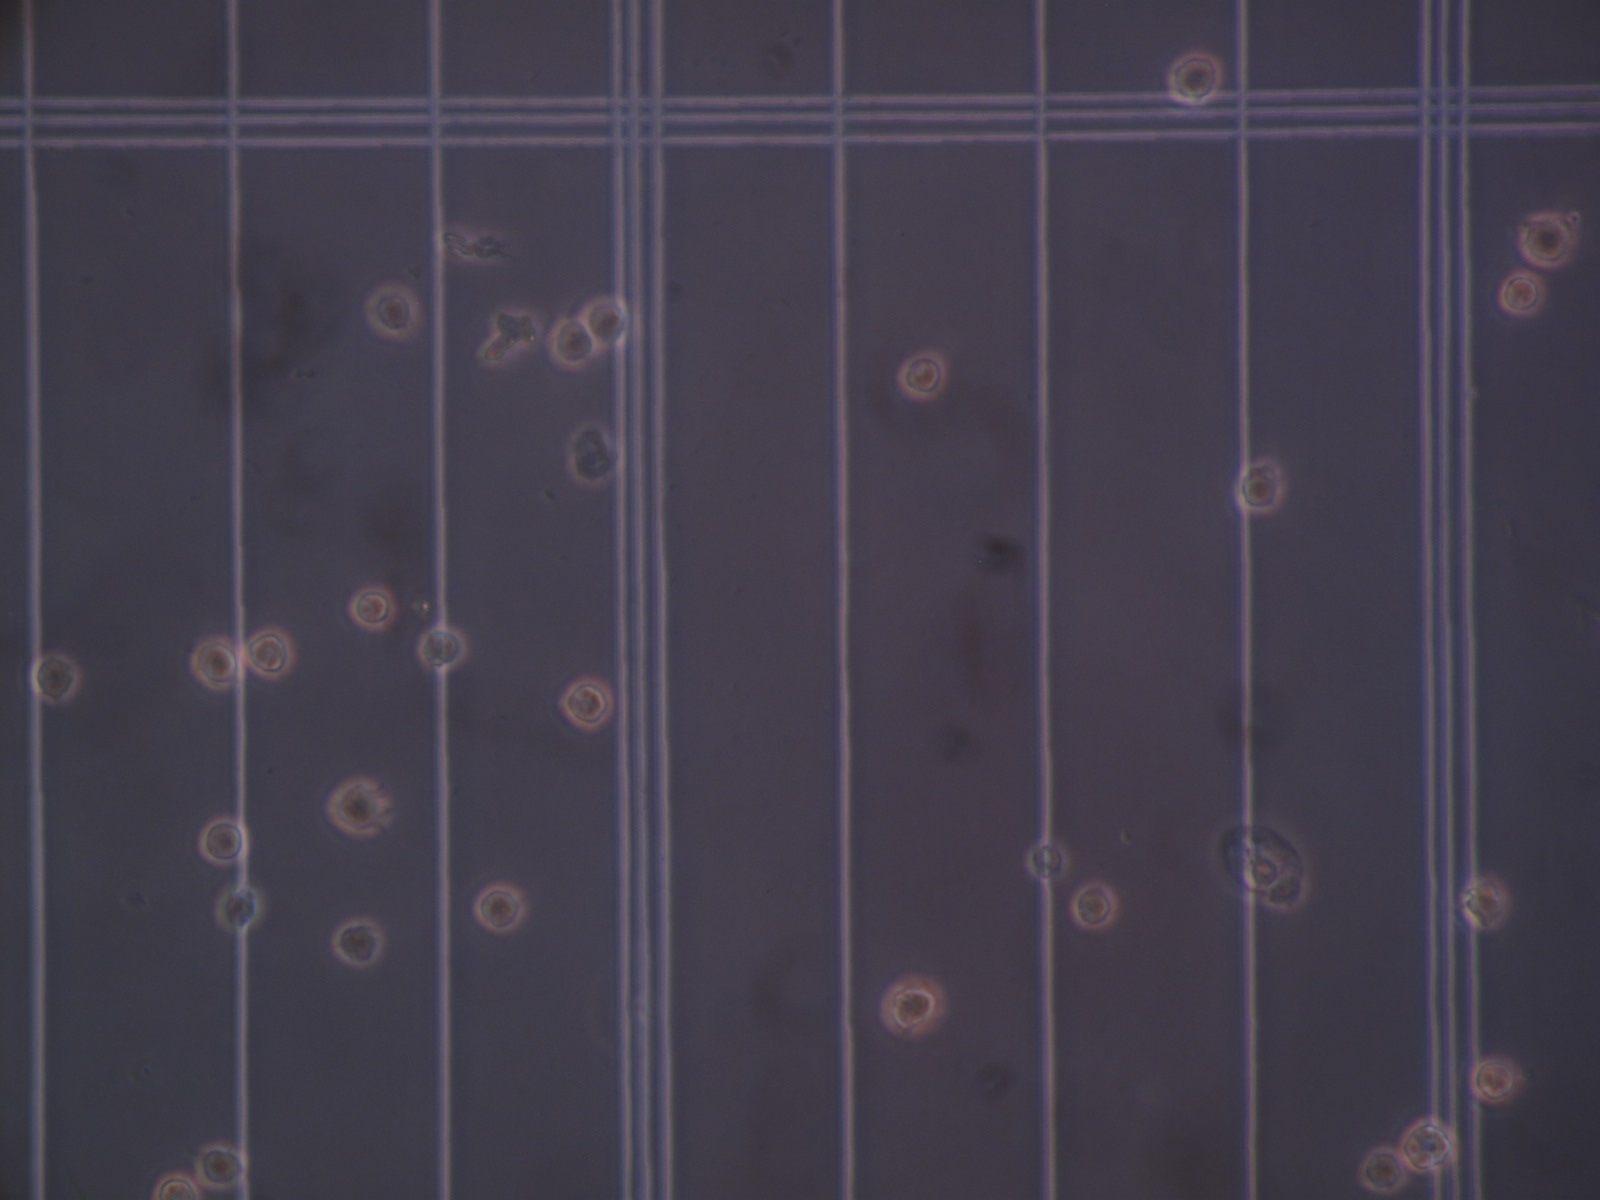hemo: (325, 775, 392, 839), (882, 976, 944, 1039), (1518, 213, 1579, 271), (564, 417, 617, 483), (1398, 1117, 1456, 1172), (190, 633, 241, 692), (1167, 50, 1221, 105), (558, 678, 614, 731), (197, 816, 252, 868), (367, 284, 420, 338), (546, 315, 597, 371), (1233, 458, 1284, 514), (331, 916, 386, 967), (897, 350, 947, 403), (578, 294, 629, 347), (244, 625, 294, 679), (475, 882, 525, 934), (1471, 1055, 1524, 1104), (193, 1142, 246, 1190), (1461, 875, 1508, 929), (31, 652, 78, 705), (1070, 880, 1117, 929), (1499, 271, 1547, 318), (1359, 1146, 1406, 1194), (417, 625, 466, 671), (348, 585, 397, 630), (213, 885, 260, 932), (1024, 839, 1070, 881), (152, 1174, 203, 1200)
